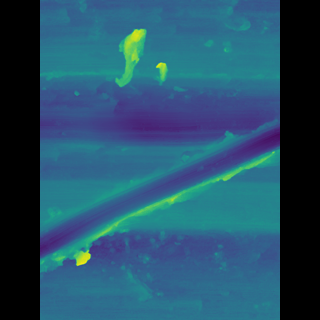Loch: (68, 120, 251, 261), (126, 30, 152, 86)
